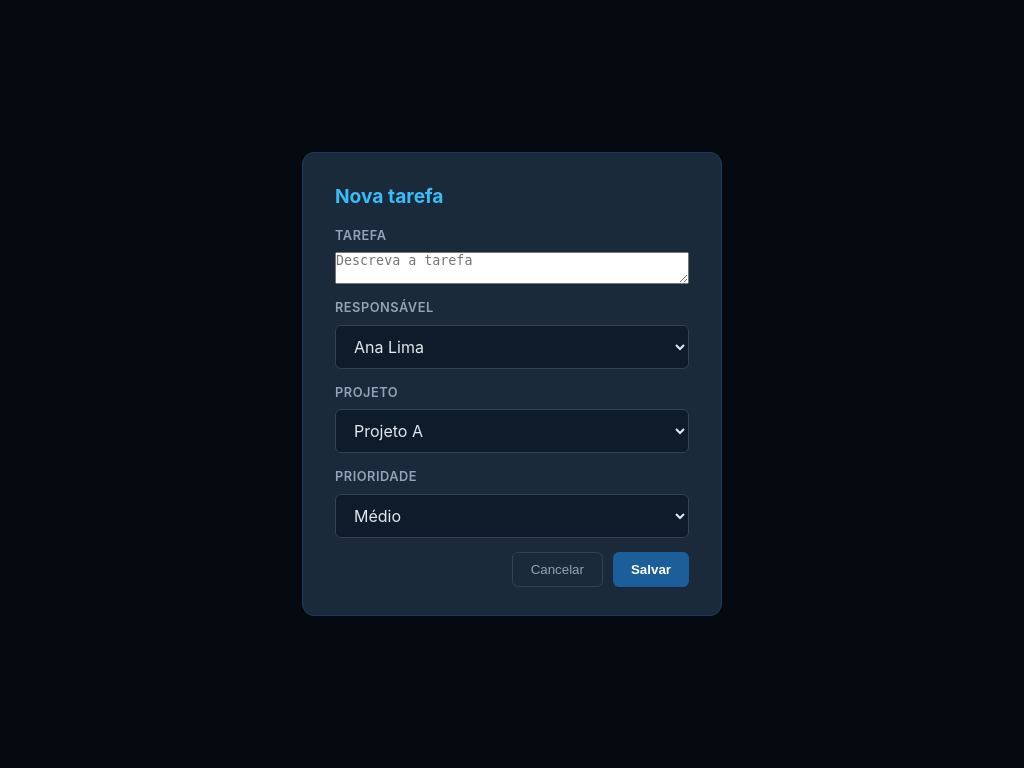
Test: ModalTarefa › A API recusa: mostra os erros e não fecha o modal
Click the button "Salvar" at (651, 569), box [613,552,689,587]
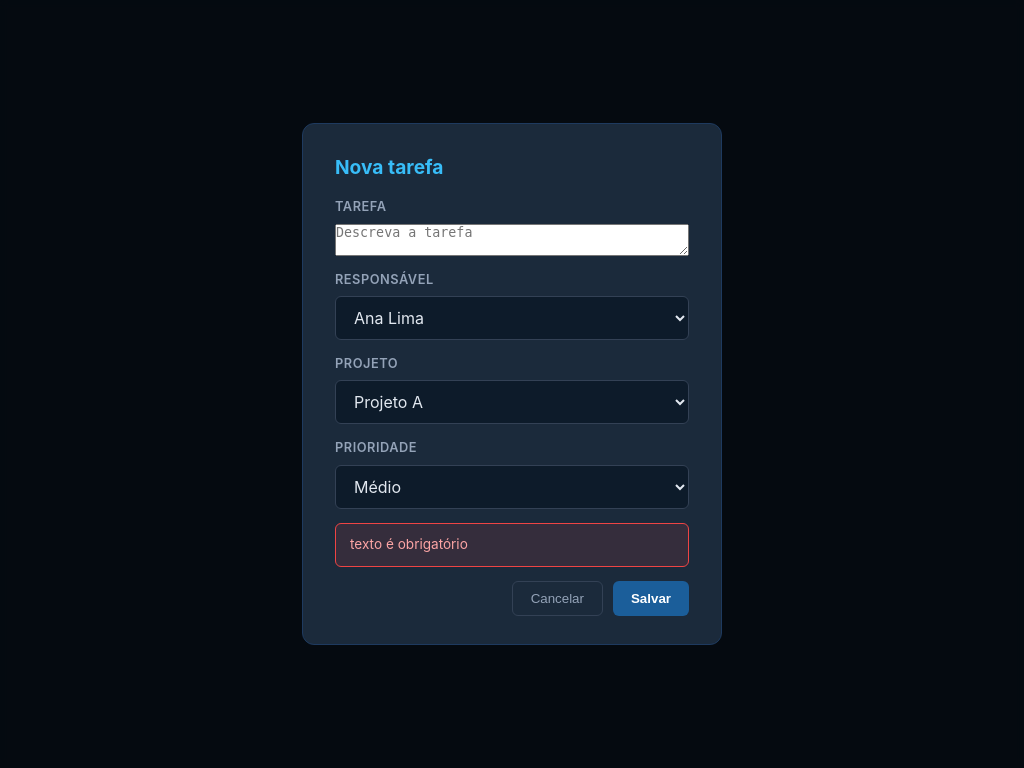
Expected: the list item "texto é obrigatório" is shown, [350,536,468,552]
